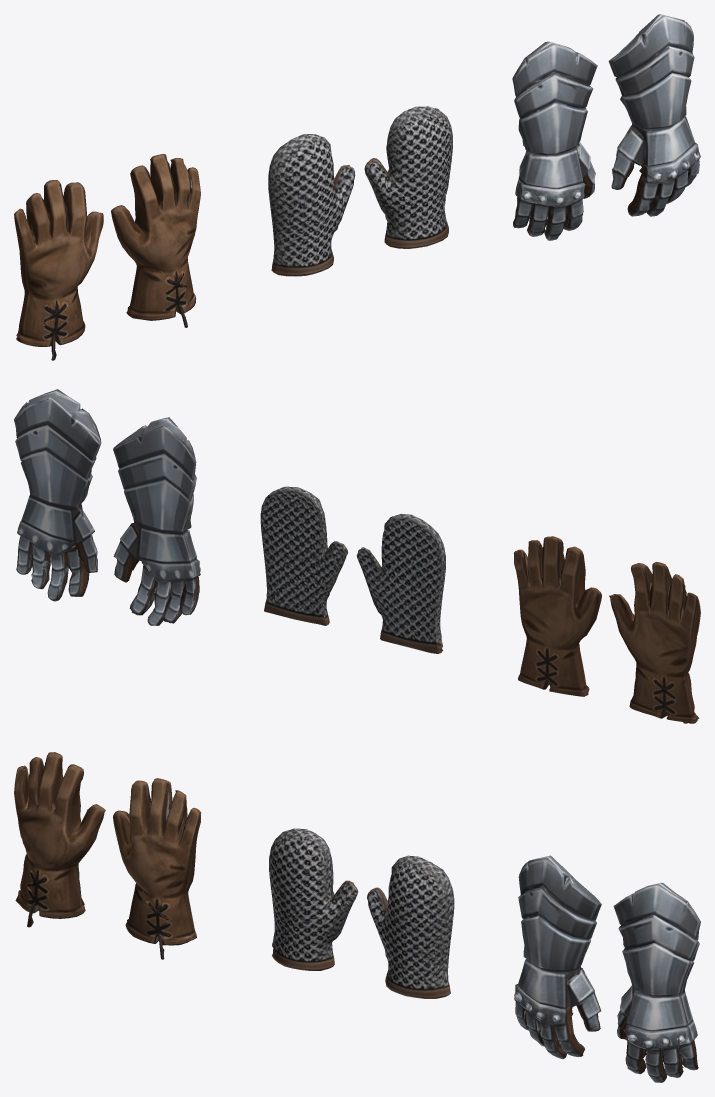
Rendered from gloves.glb.
3 renders of one model, top to bottom at view 1: azimuth 30°, elevation 25°; view 2: azimuth 150°, elevation 25°; view 3: azimuth 330°, elevation 25°, orthographic.
Size of the model in its own units: 0.9502 by 0.2734 by 0.0508.
1 material, 1 textured.
